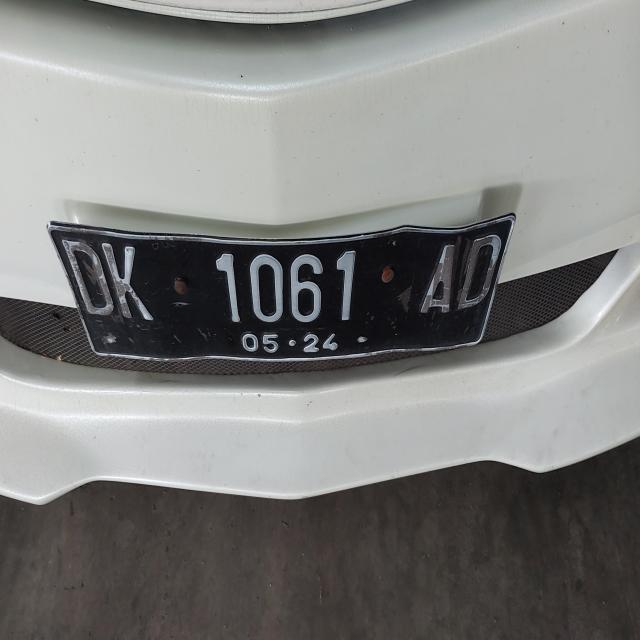0: (240, 223, 288, 343)
1: (322, 225, 368, 338), (208, 224, 250, 344)
6: (282, 225, 331, 340)
A: (413, 216, 463, 331)
D: (54, 221, 119, 336), (456, 216, 508, 329)
K: (98, 220, 160, 342)
